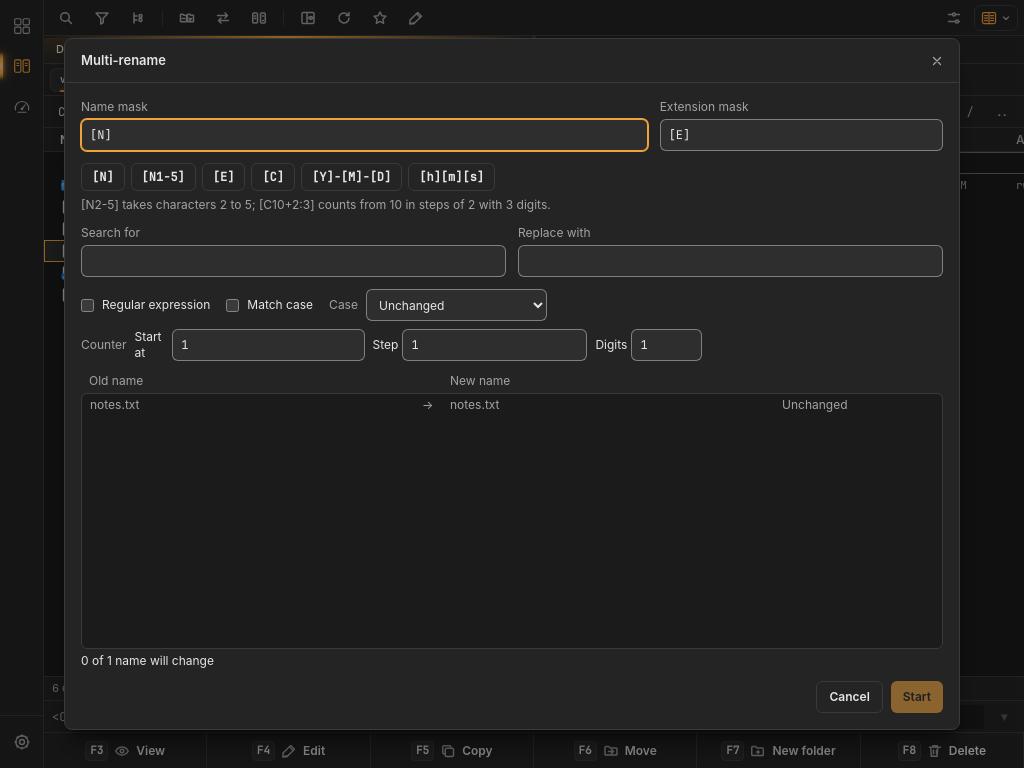
Scenario: multi-rename (Ctrl+M) › shows why a mask or an expression cannot be used and keeps the last names
This screenshot has width=1024, height=768.
expect the button with test id "path-left" reads "C:\\work": met, box [52,100,387,124]
Replace the text in the field labelled "Name mask" with "new [N]" at (364,135), box [81,119,648,151]
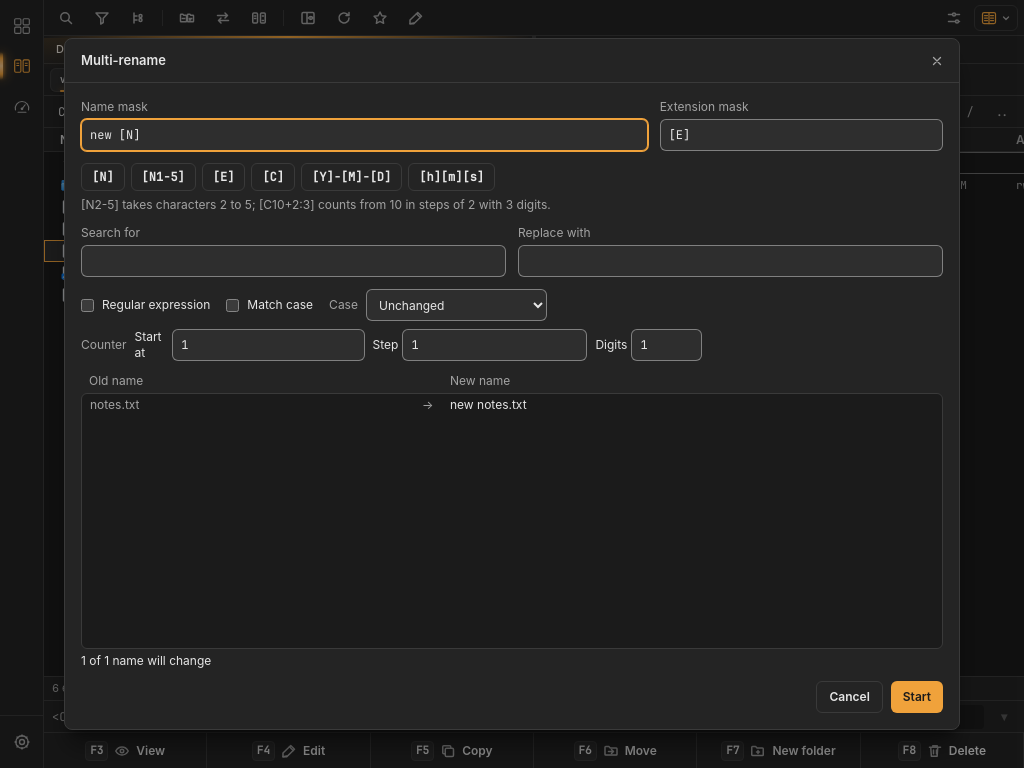
Replace the text in the field labelled "Name mask" with "new [N" at (364,135), box [81,119,648,151]
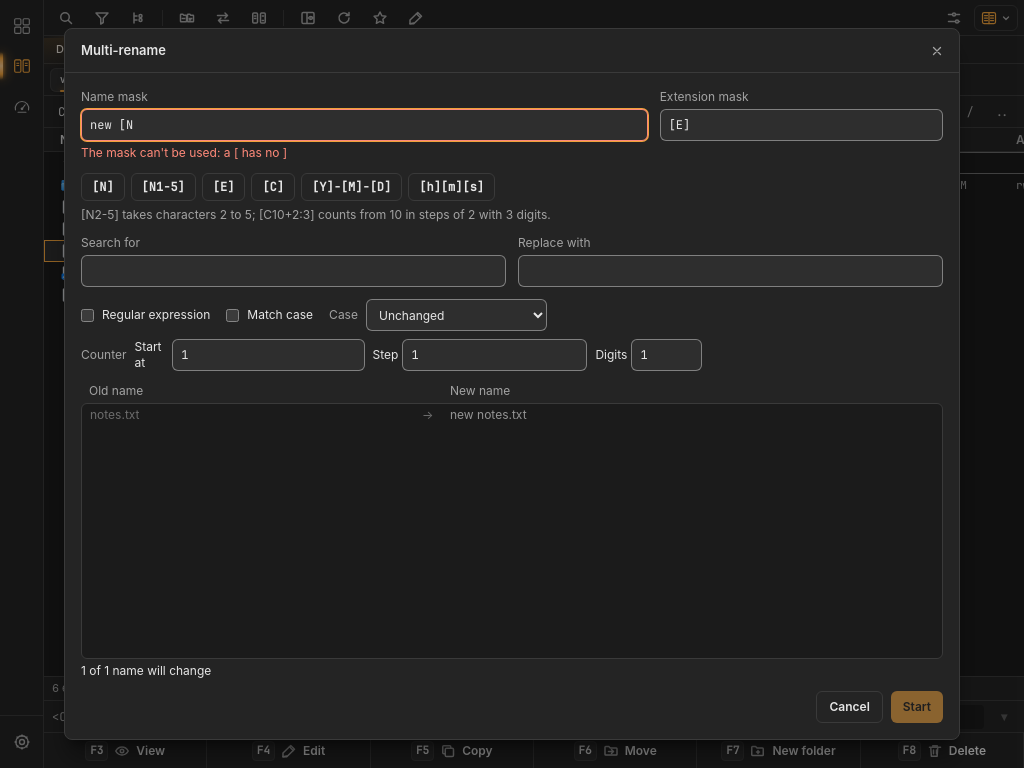
expect the message "The mask can't be used: a [ has no ]" is shown: met, box [81,145,287,160]
expect the button "Start" is disabled: met, box [891,691,943,723]
Submit the form with test id "multi-rename-dialog"
Replace the text in the field labelled "Name mask" with "new [N]" at (364,125), box [81,109,648,141]
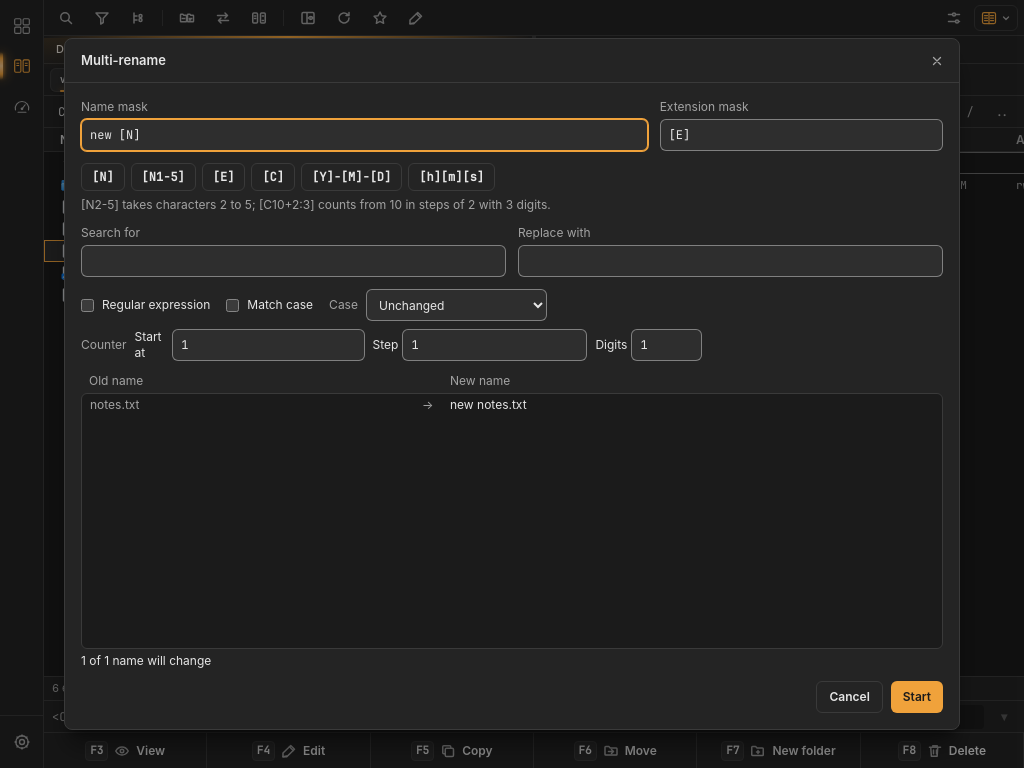
expect the message "The mask can't be used: a [ has no ]" is gone: met
expect the button "Start" is enabled: met, box [891,681,943,713]
Click the checkbox labelled "Regular expression" at (88,305), box [81,298,94,312]
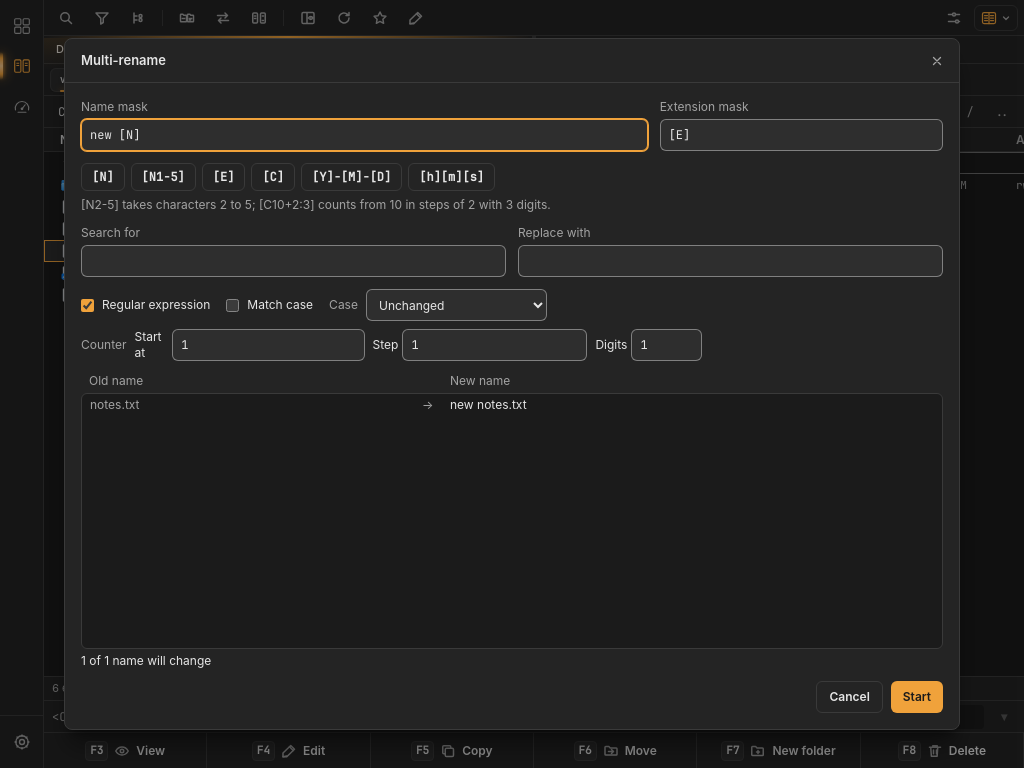
Type "(" into the field labelled "Search for" at (294,261), box [81,245,506,277]
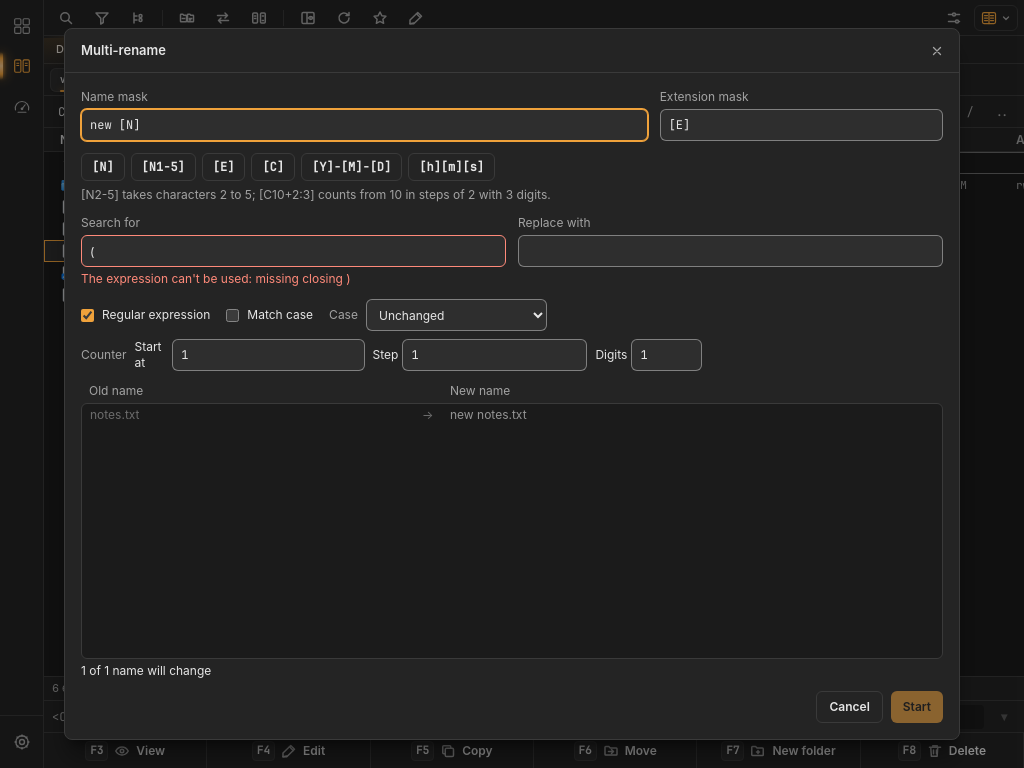
expect the message "The expression can't be used: missing closing )" is shown: met, box [81,271,351,286]
